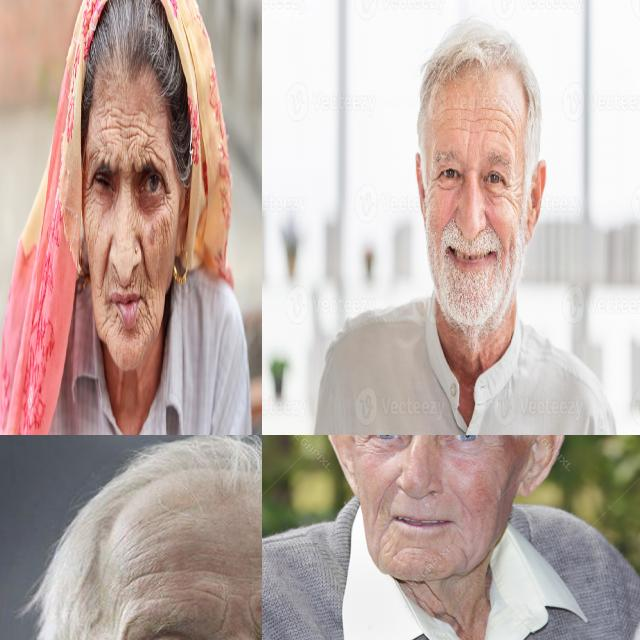bunny_line: (130, 211, 143, 236)
chin: (380, 526, 400, 560), (402, 538, 430, 556), (455, 544, 475, 564), (139, 322, 152, 348), (115, 312, 122, 337)
crows_feet: (502, 181, 520, 203), (428, 172, 441, 195), (164, 185, 173, 215), (84, 180, 94, 202)
forehead: (484, 102, 510, 140), (121, 112, 138, 145), (103, 101, 120, 132), (463, 106, 476, 140), (141, 125, 156, 153), (437, 102, 456, 118)
frown_line: (216, 593, 262, 635), (118, 149, 134, 174), (466, 162, 477, 177)
gummy_smile: (376, 474, 394, 516), (451, 490, 471, 514), (484, 208, 497, 234), (141, 243, 149, 282), (102, 245, 109, 286), (445, 207, 459, 226)
masseter: (159, 221, 174, 249), (87, 221, 94, 253)
sad_smile: (102, 307, 112, 328), (142, 296, 149, 317)
smoker_lines: (112, 271, 121, 293), (130, 271, 137, 293)
